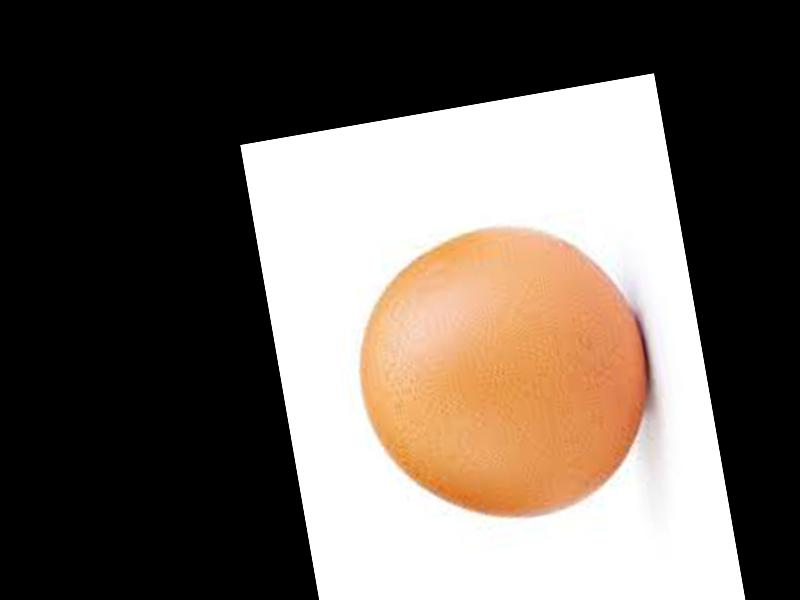Eggs: (342, 207, 666, 539)
